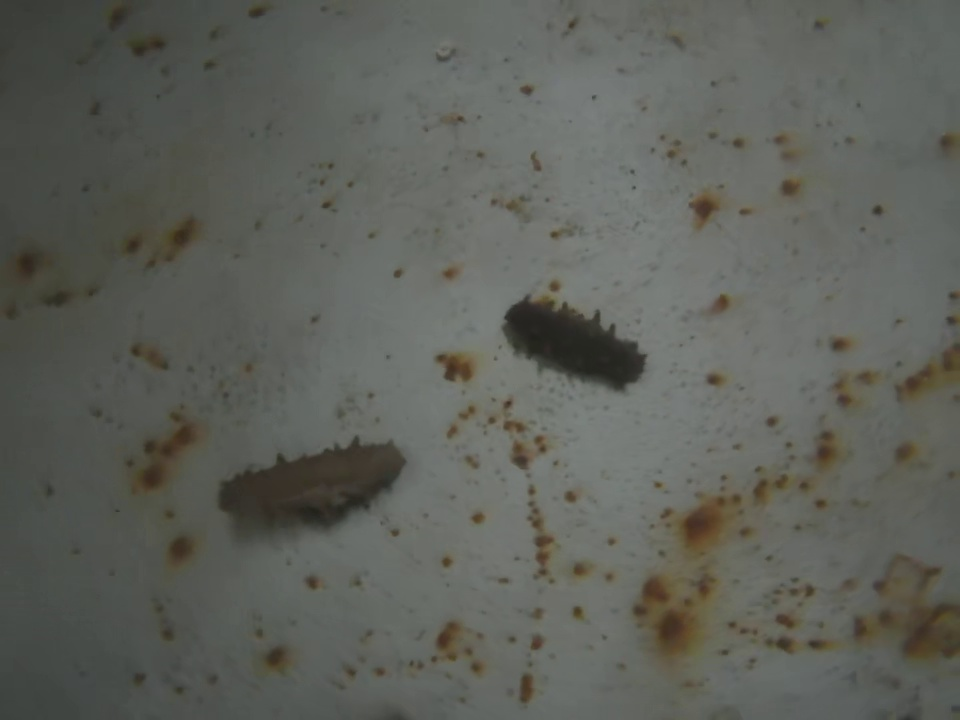seacucumber: (218, 438, 424, 523), (500, 293, 648, 394)
